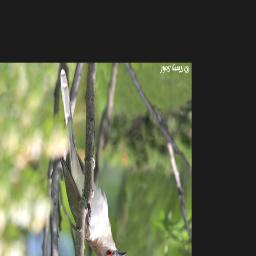Cuckoo: (59, 67, 128, 256)
